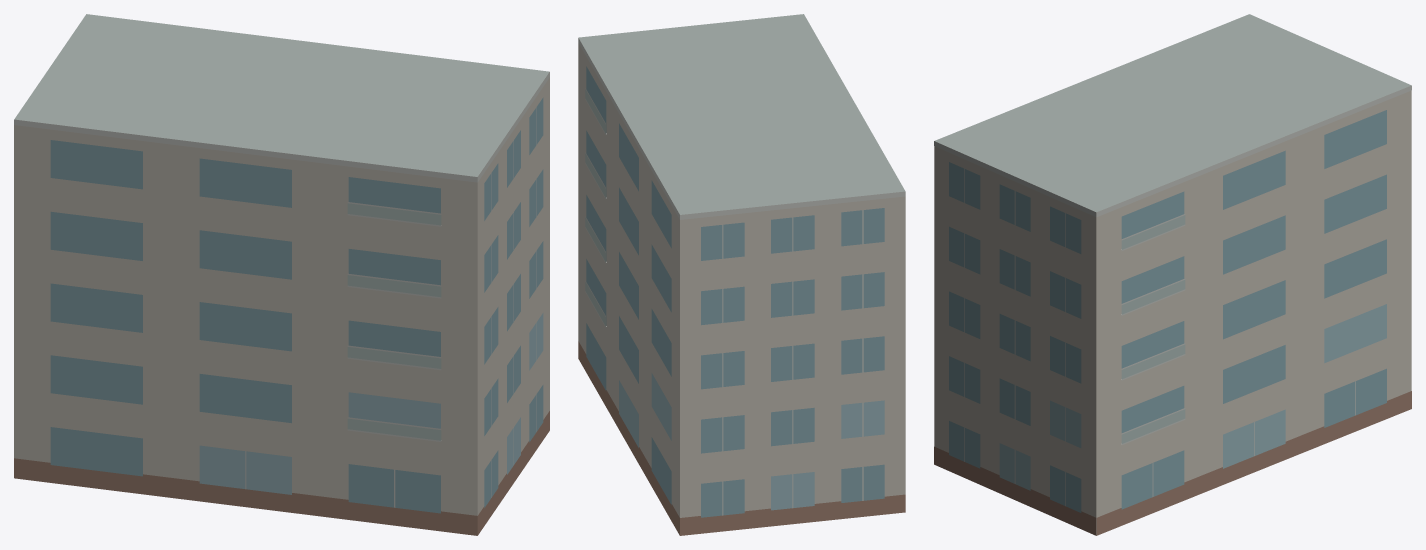
File: survey-upis-32586695.glb
3 renders of one model, left to right at view 1: azimuth 30°, elevation 25°; view 2: azimuth 150°, elevation 25°; view 3: azimuth 270°, elevation 25°, orthographic. The views are drawn at different scales.
Parts seen in each view (by area): view 1: survey-upis-32586695.tmp; view 2: survey-upis-32586695.tmp; view 3: survey-upis-32586695.tmp.
Boxes of the visible parts, x1=… form: survey-upis-32586695.tmp: x1=14, y1=14, x2=549, y2=535; survey-upis-32586695.tmp: x1=578, y1=14, x2=905, y2=535; survey-upis-32586695.tmp: x1=934, y1=14, x2=1411, y2=535.
Size of the model in its own units: 20.78 by 15.8 by 21.15.
